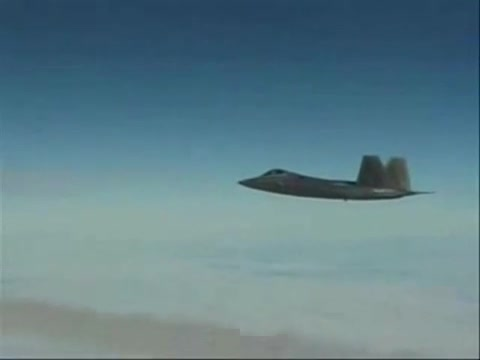aeroplane: (237, 151, 436, 203)
